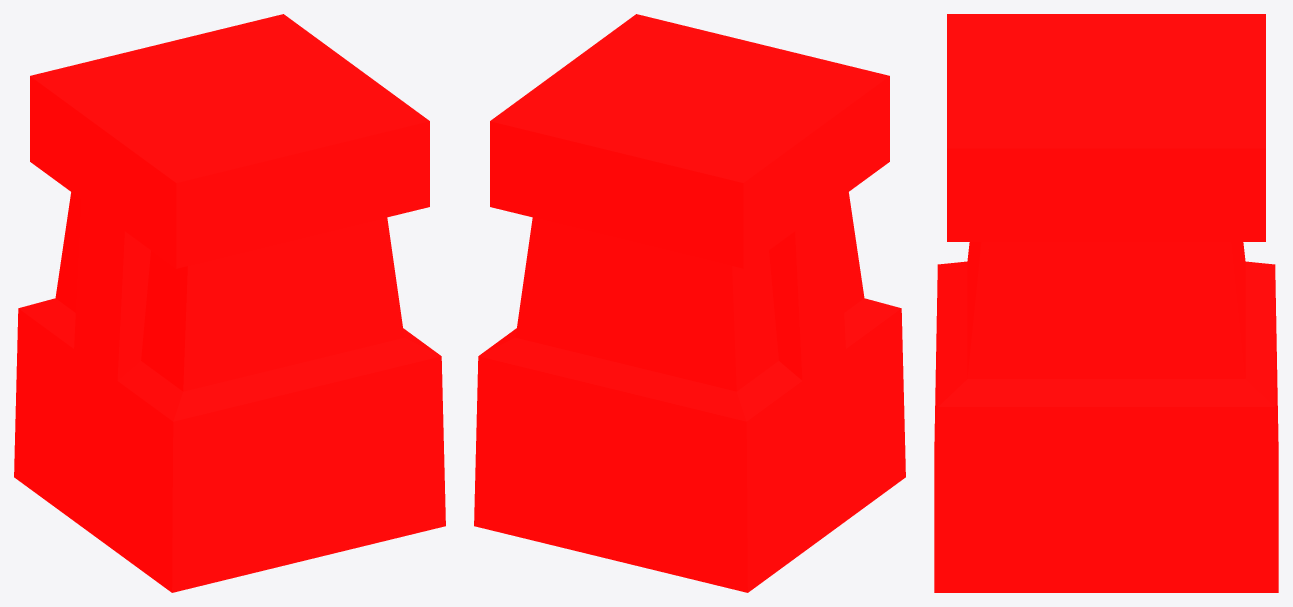
Rendered from hokuyo_utm_30lxTEST_SELF_FILTER.dae.
3 views of the same model, side by side, from view 1: azimuth 30°, elevation 25°; view 2: azimuth 150°, elevation 25°; view 3: azimuth 270°, elevation 25° (orthographic). The views are drawn at different scales.
Visible parts, largest first — view 1: Plane; view 2: Plane; view 3: Plane.
Part boxes in pixels (x1,y1,x2,y2): Plane: (14,14,445,592); Plane: (474,14,905,592); Plane: (934,14,1278,592).
Size of the model in its own units: 0.0618 by 0.0618 by 0.087.
